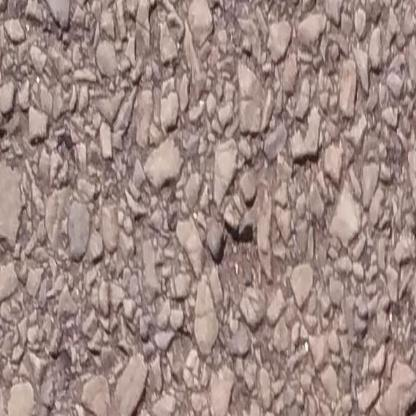Cracks: (401, 375, 416, 416)
